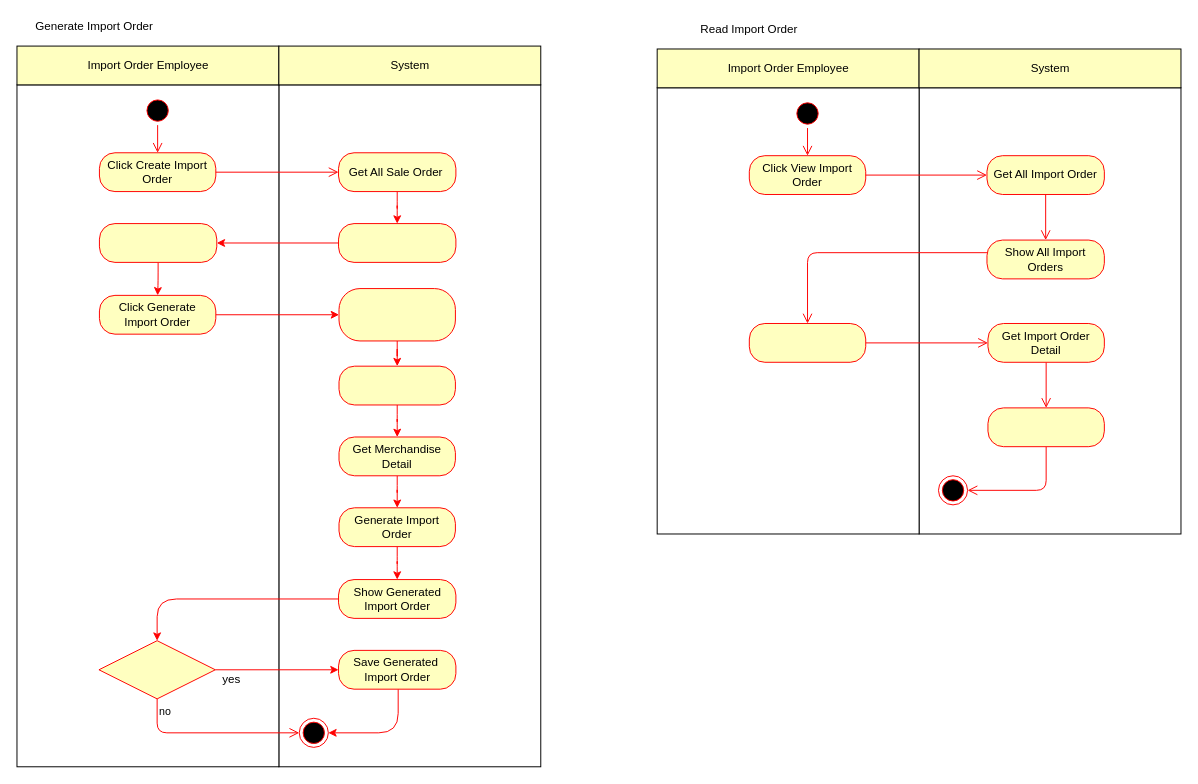
Some shapes in this 1198 by 784 pixel diagram are drawn without their labels. The shapes that lost their labels are listed below. From the top down, each one's centre as x and y in pixels, then its label:
At point (157, 242): "Choose Sale Order".
At point (397, 242): "Show All Sale Order".
At point (396, 314): "Get Sale Order Detail".
At point (807, 342): "Click Detail Import Order".
At point (396, 385): "Get Site Detail".
At point (1045, 427): "Show Import Order Detail".
At point (156, 669): "Confirm?".
